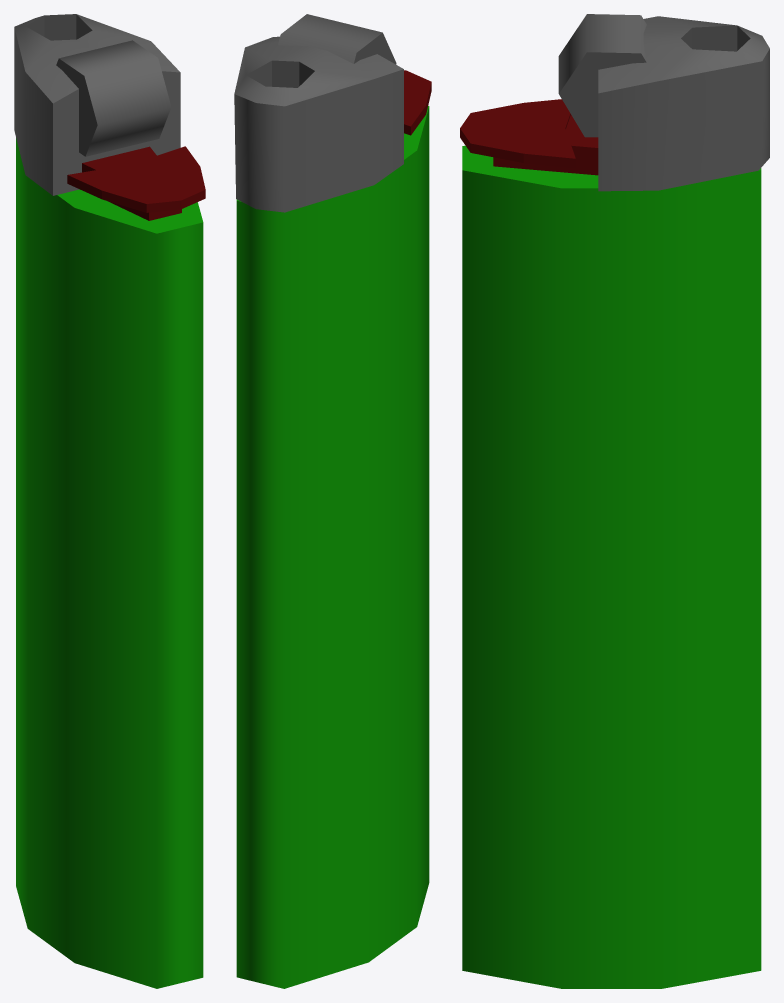
File: WW_lighter_prop.fbx
3 views of the same model, side by side, from view 1: azimuth 30°, elevation 25°; view 2: azimuth 150°, elevation 25°; view 3: azimuth 270°, elevation 25° (orthographic). The views are drawn at different scales.
Visible parts, largest first — view 1: lighter_geo; view 2: lighter_geo; view 3: lighter_geo.
Part boxes in pixels (<box>): lighter_geo: <box>14,14,205,988</box>; lighter_geo: <box>234,14,431,988</box>; lighter_geo: <box>460,14,769,988</box>.
Bounding box in the file's own units: 1.08 × 7.07 × 2.15.
